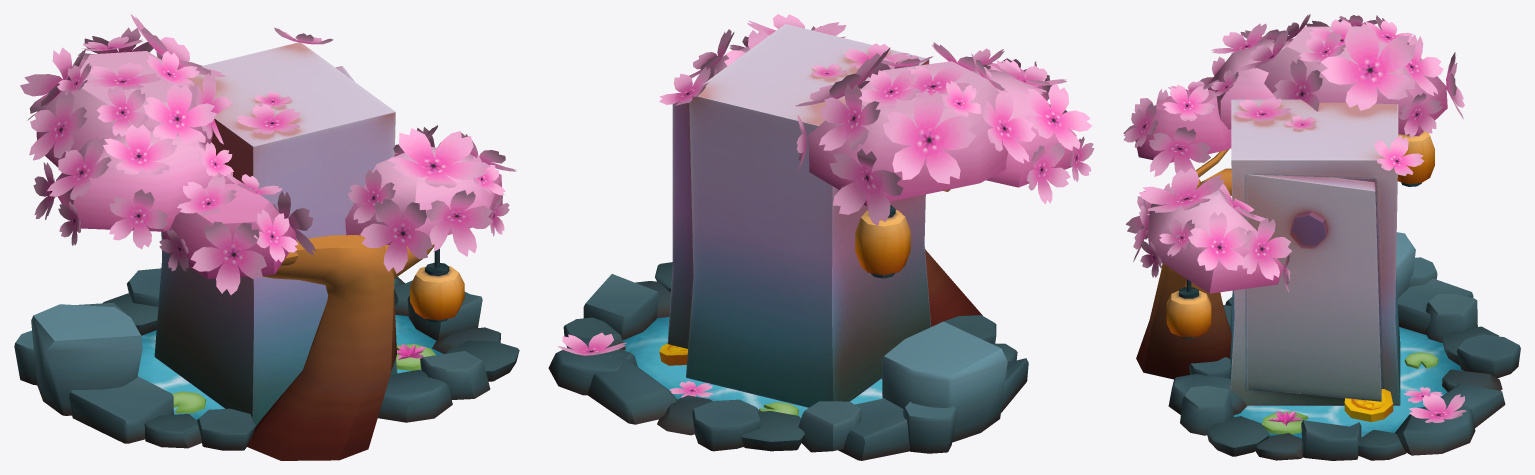
Rendered from Vault Sakura.obj.
3 views of the same model, side by side, from view 1: azimuth 30°, elevation 25°; view 2: azimuth 150°, elevation 25°; view 3: azimuth 270°, elevation 25° (orthographic). The views are drawn at different scales.
Parts seen in each view (by area): view 1: VaultSakura1; view 2: VaultSakura1; view 3: VaultSakura1.
Boxes of the visible parts, <box> form: VaultSakura1: <box>14,14,519,460</box>; VaultSakura1: <box>548,14,1094,460</box>; VaultSakura1: <box>1123,14,1520,460</box>.
Bounding box in the file's own units: 19.22 × 14.36 × 16.79.
1 material, 1 textured.
